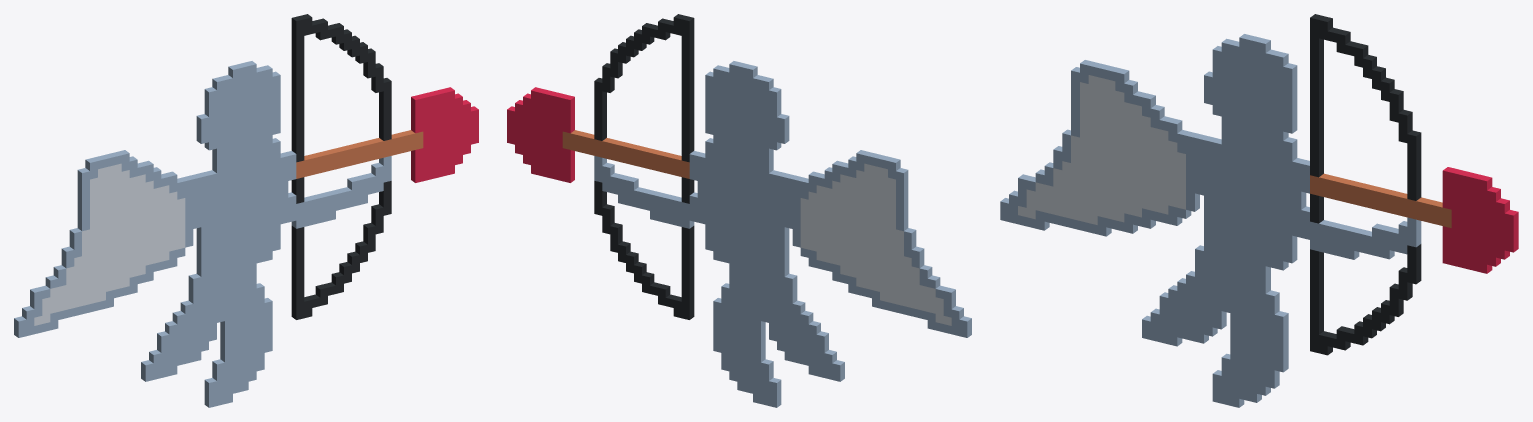
File: Cupid.fbx
3 views of the same model, side by side, from view 1: azimuth 30°, elevation 25°; view 2: azimuth 150°, elevation 25°; view 3: azimuth 330°, elevation 25° (orthographic). The views are drawn at different scales.
Visible parts, largest first — view 1: generated; view 2: generated; view 3: generated.
Boxes of the visible parts, x1=… form: generated: x1=14, y1=14, x2=478, y2=407; generated: x1=507, y1=14, x2=971, y2=407; generated: x1=1000, y1=14, x2=1518, y2=407.
Size of the model in its own units: 580 by 440 by 10.
